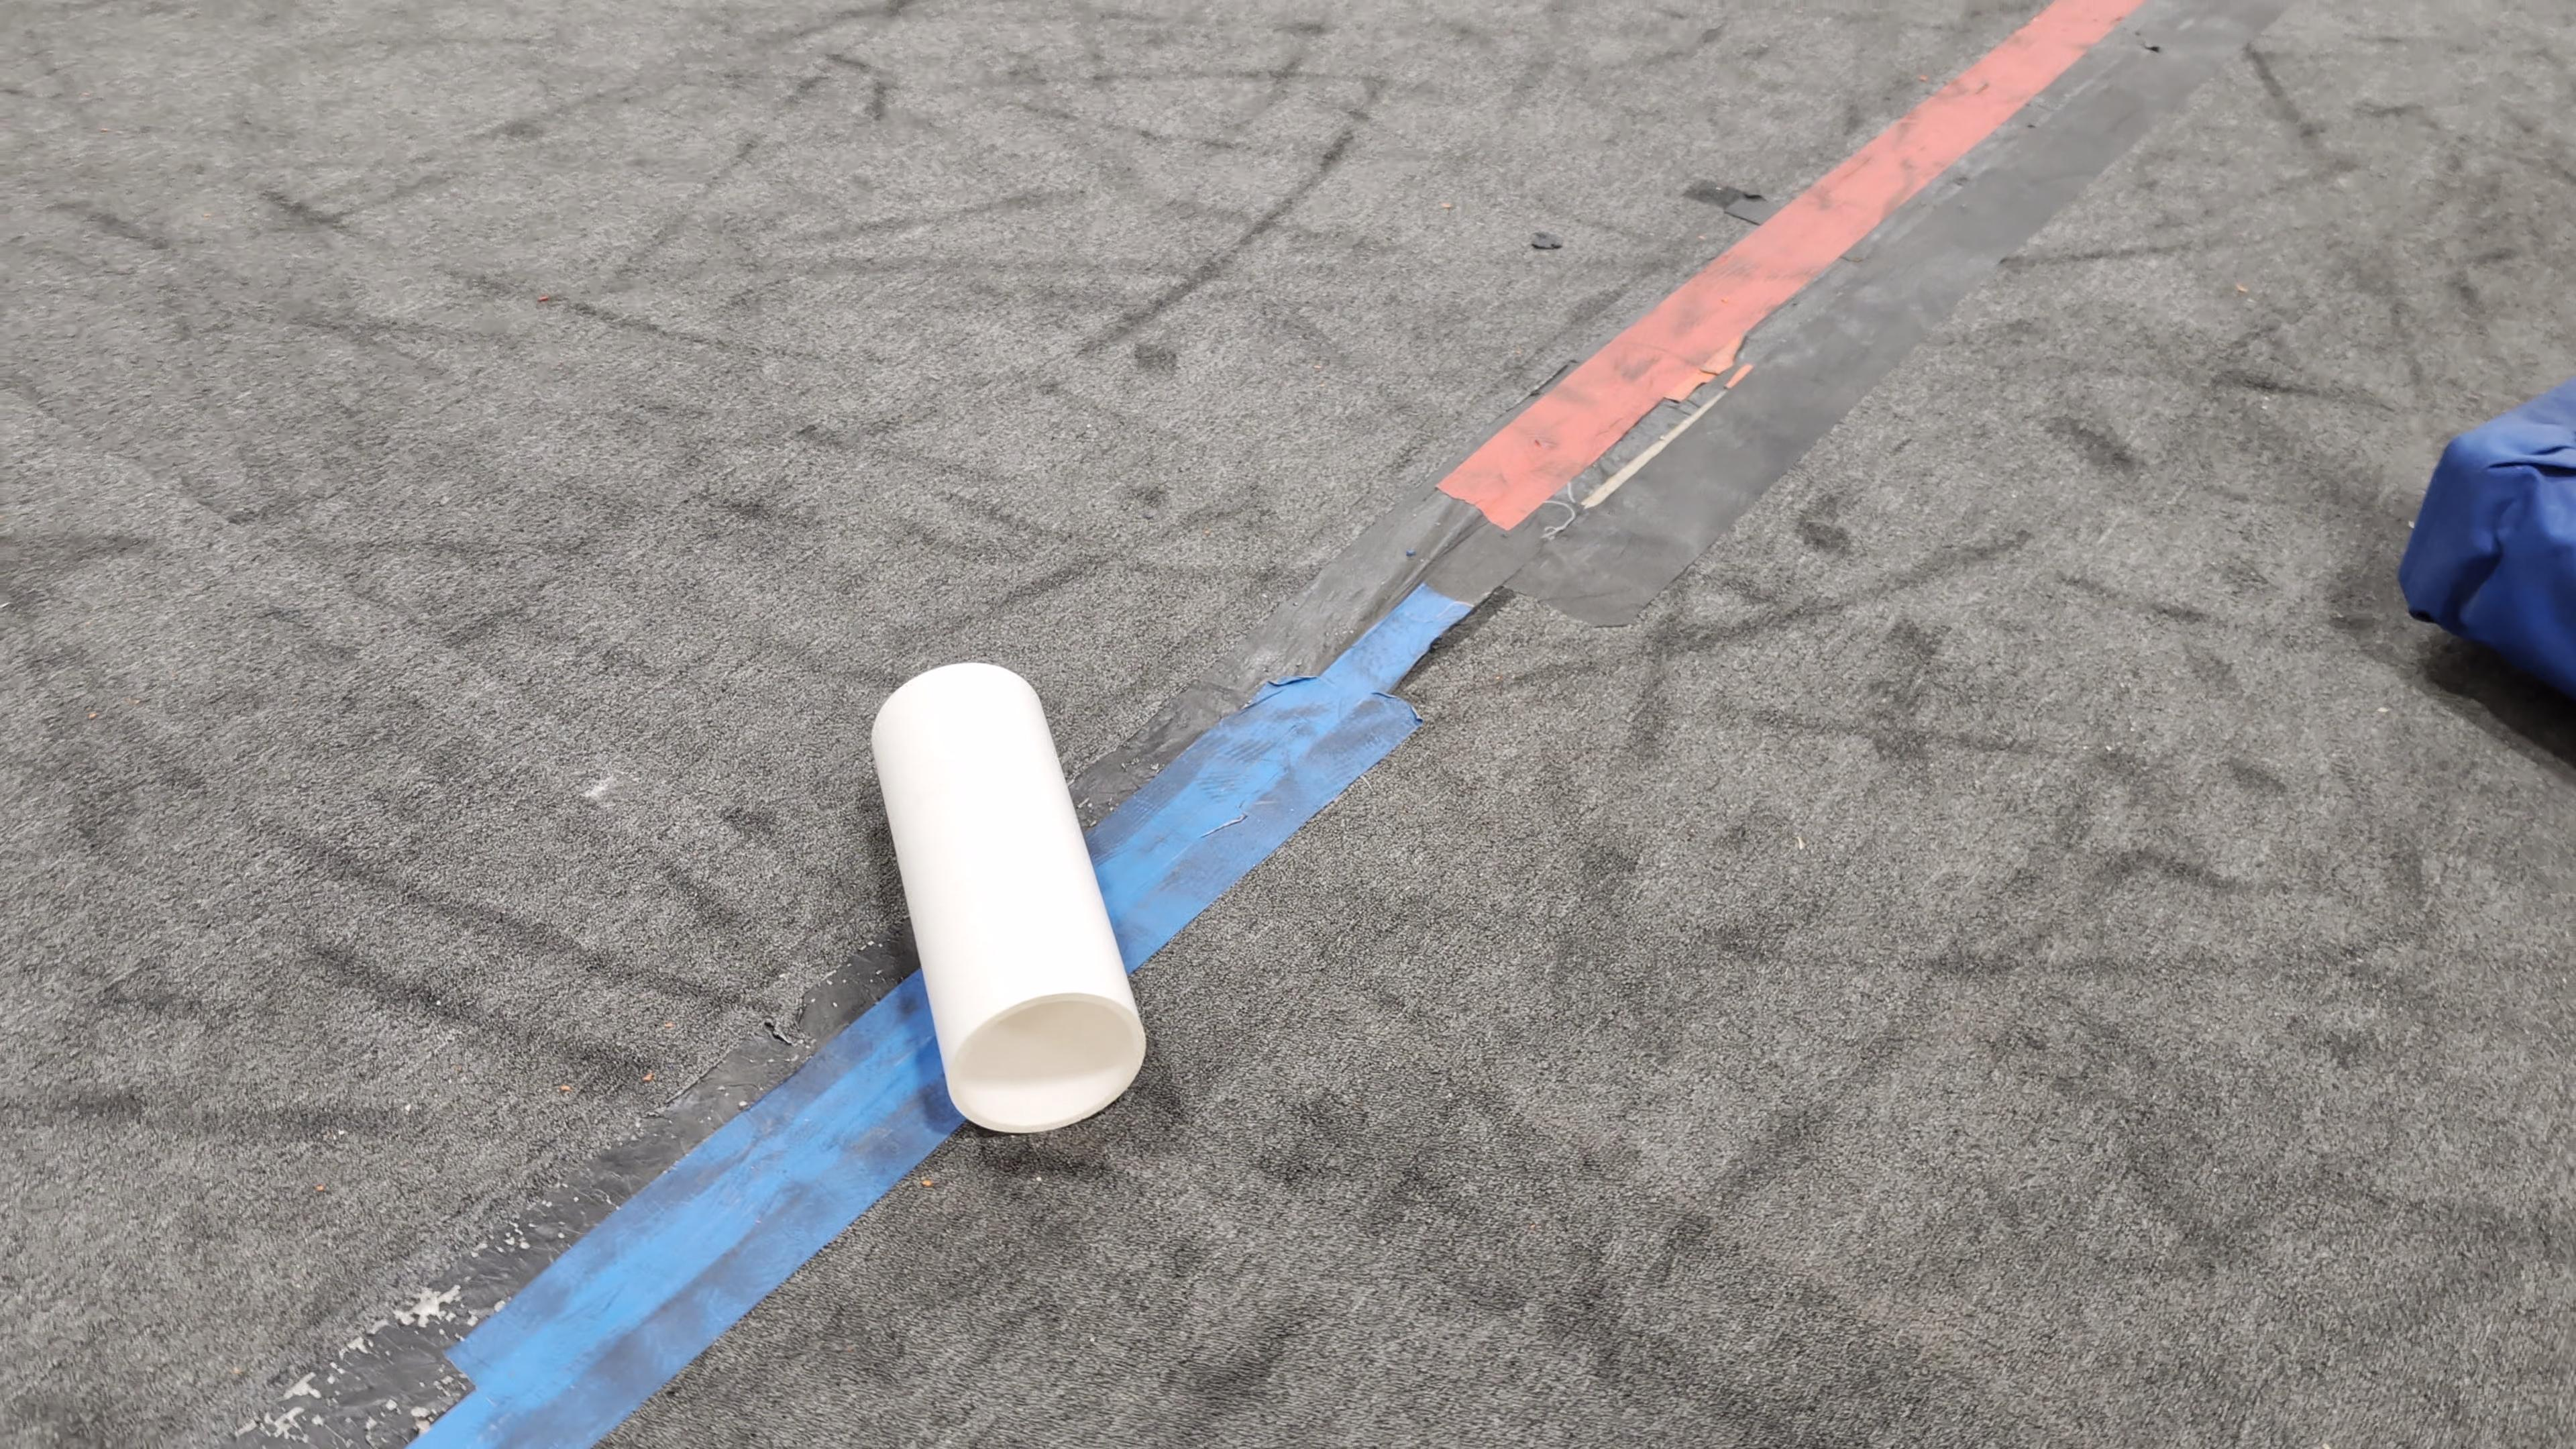coral: (869, 658, 1148, 1132)
